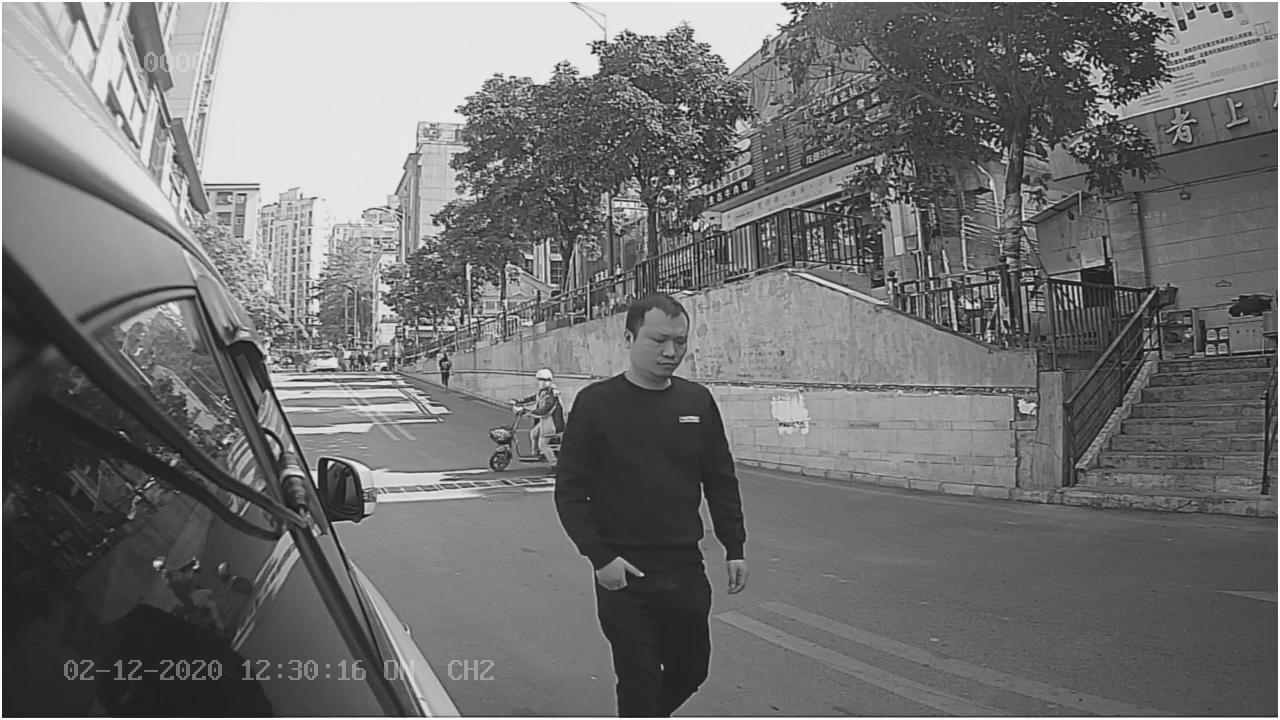person: (555, 285, 758, 596)
